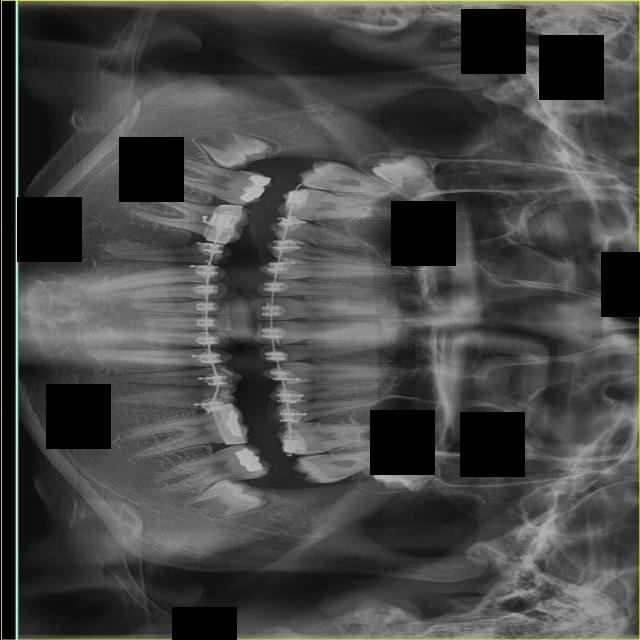NucleOSS Implant: (238, 170, 271, 207), (233, 444, 264, 477), (224, 408, 241, 437)
Straumann Implant: (281, 188, 312, 209)
